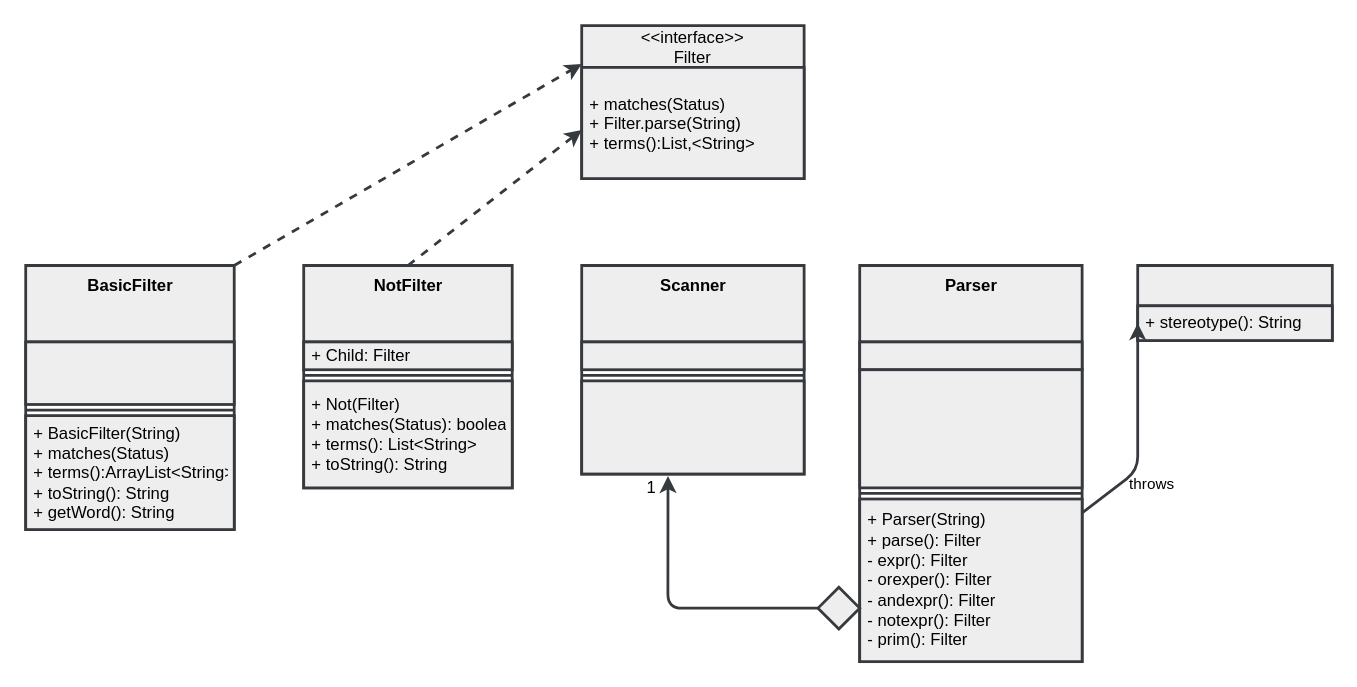
The diagram is 1357 pixels wide and 687 high, and some of its shapes have lost their labels. The shapes that lost their labels are listed below. From the top down, each one's box as (x1, y1, x2, y2) in pixels, then its label:
(1136, 263, 1333, 341): SyntaxError
(24, 340, 235, 405): - word: String - pattern: Pattern
(580, 340, 805, 370): - tokens: LinkedList<String>
(858, 340, 1083, 370): - scanner: Scanner
(580, 379, 805, 475): + Scanner(String) + peek():String + advance(): String
(858, 368, 1083, 489): - IPAREN: String - RPAREN: String - OR: String - AND: String - NOT: String
